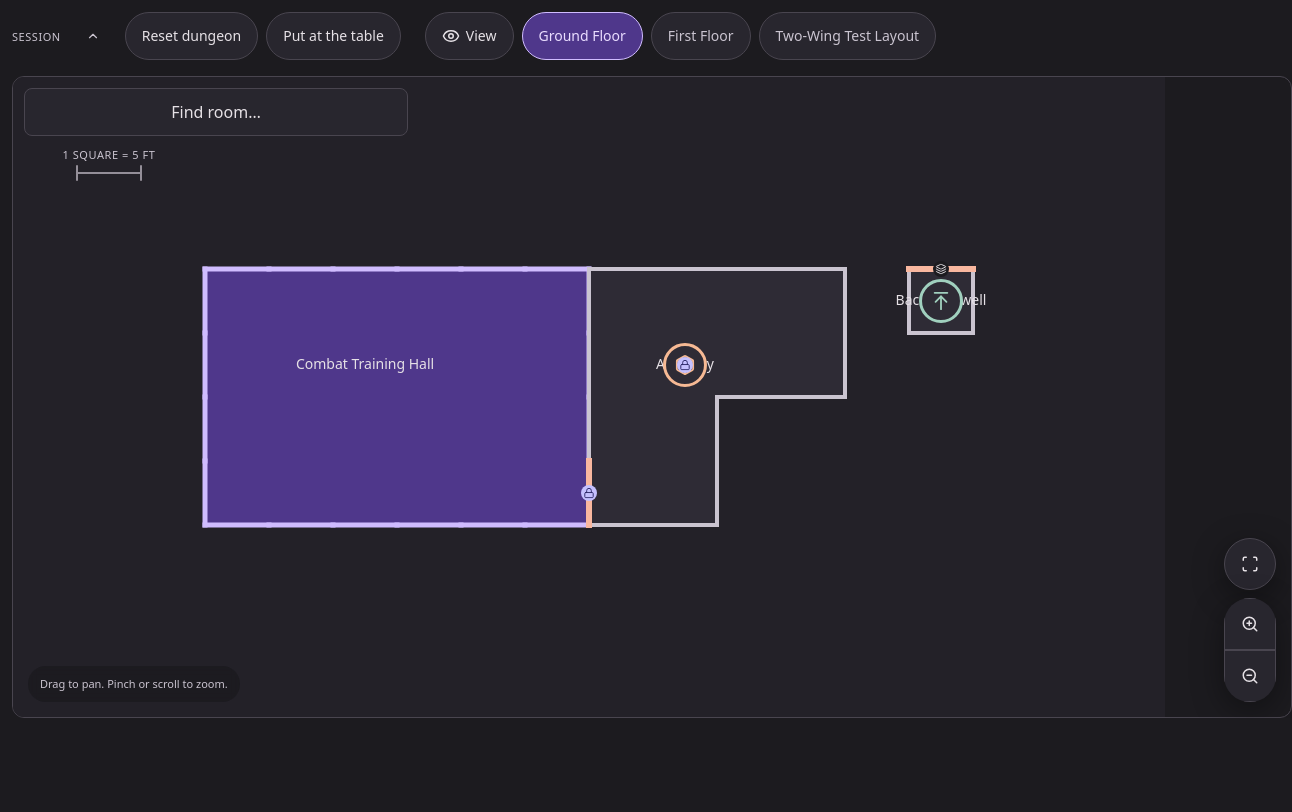
MapLabPage (Stage 03 — viewer status chip action failures) › shows at-table failure copy in the canvas status chip when setAtTheTable rejects
This screenshot has width=1292, height=812.
Step 1. Click the button "Put at the table" → (334, 36), box [266,12,401,60]
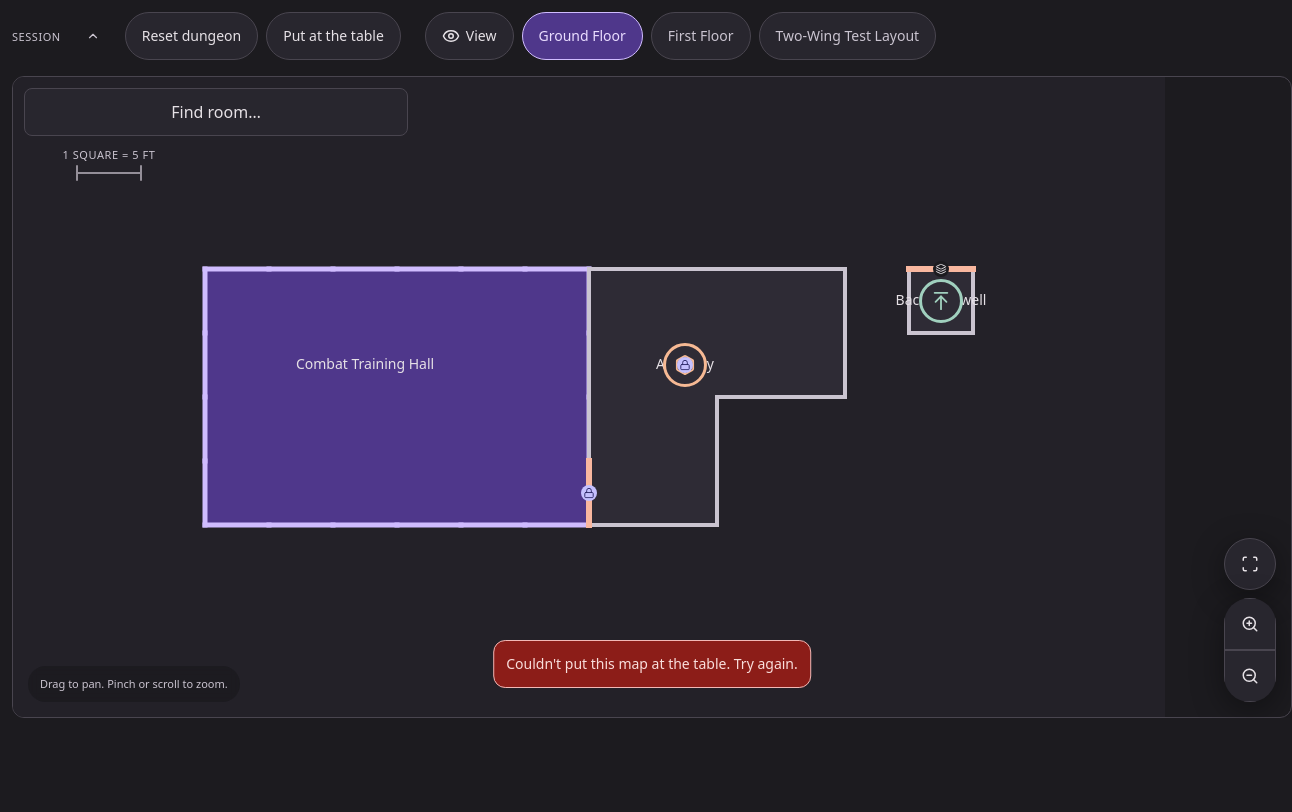
Check: the text "Couldn't put this map at the table. Try again." is shown, box [493,640,811,688]
